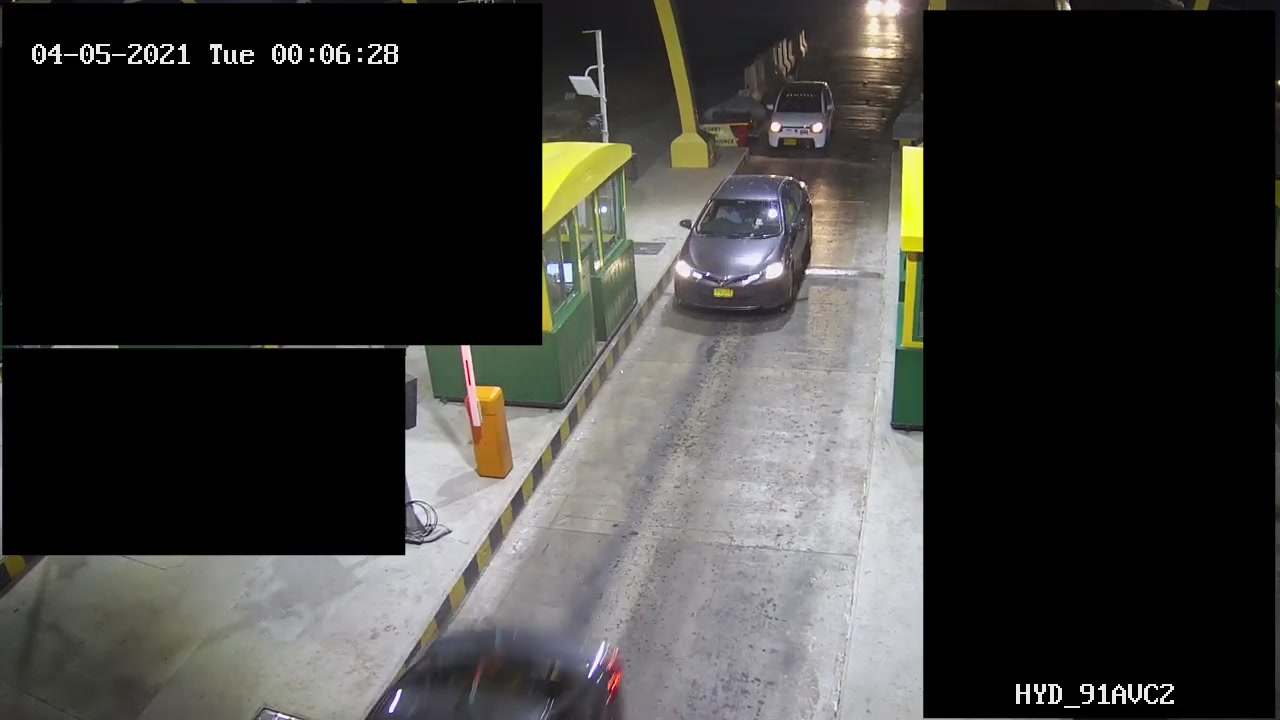F1: (659, 172, 830, 327)
